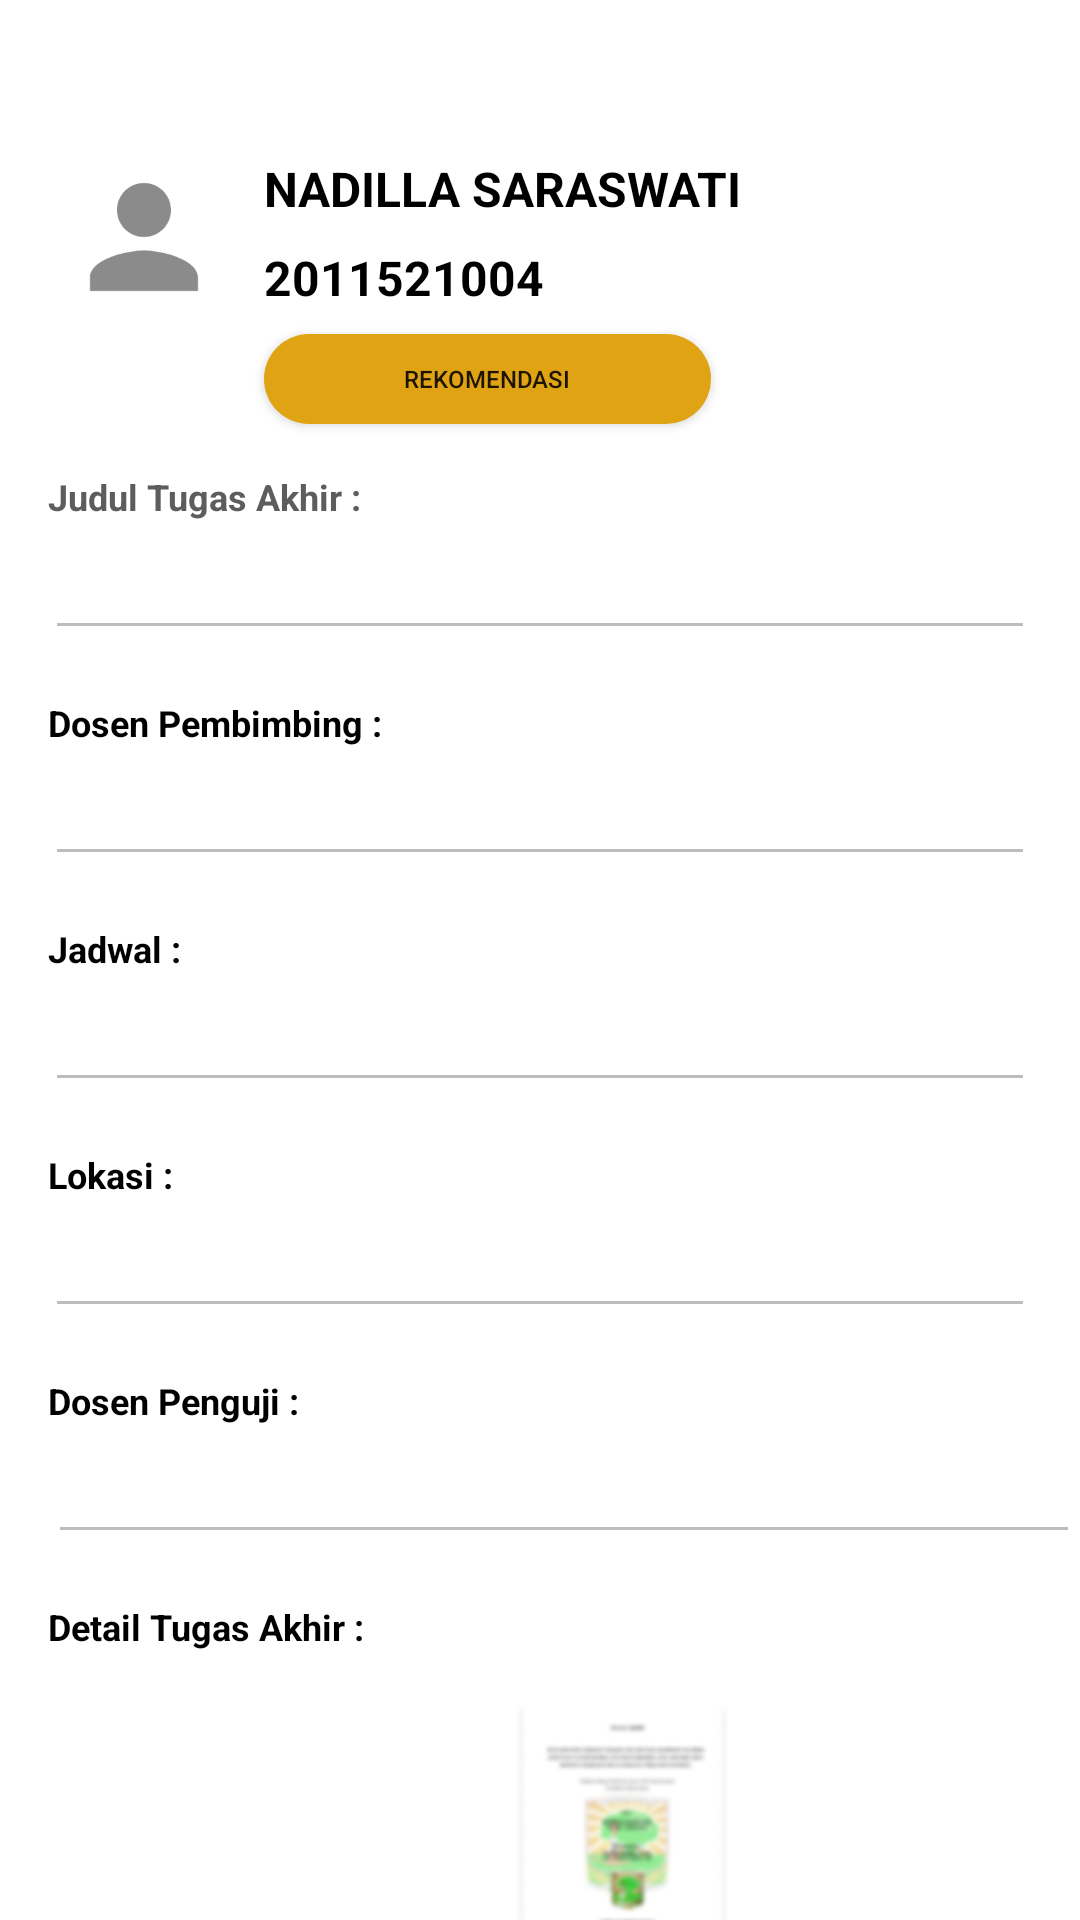

Where to tap for icons on this 1080 × 1920 app screen, as [x,y]:
person: [144,237]
